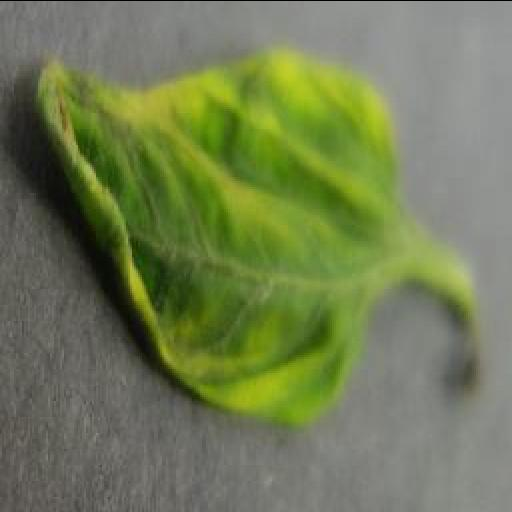disease_tomato: (37, 46, 411, 428)
